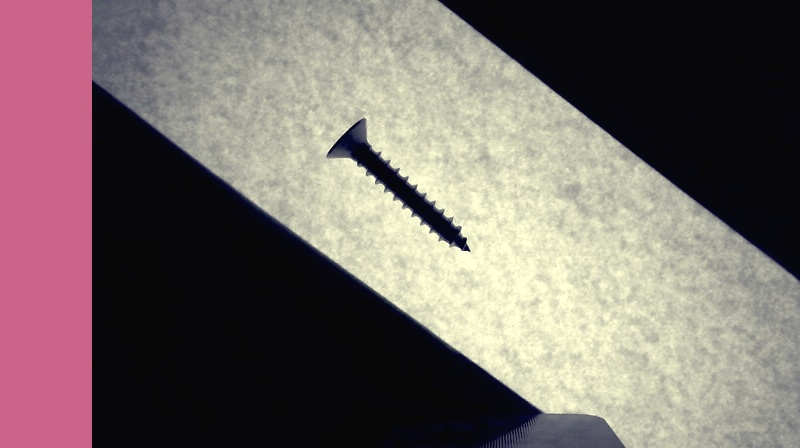S001: (324, 117, 474, 255)
